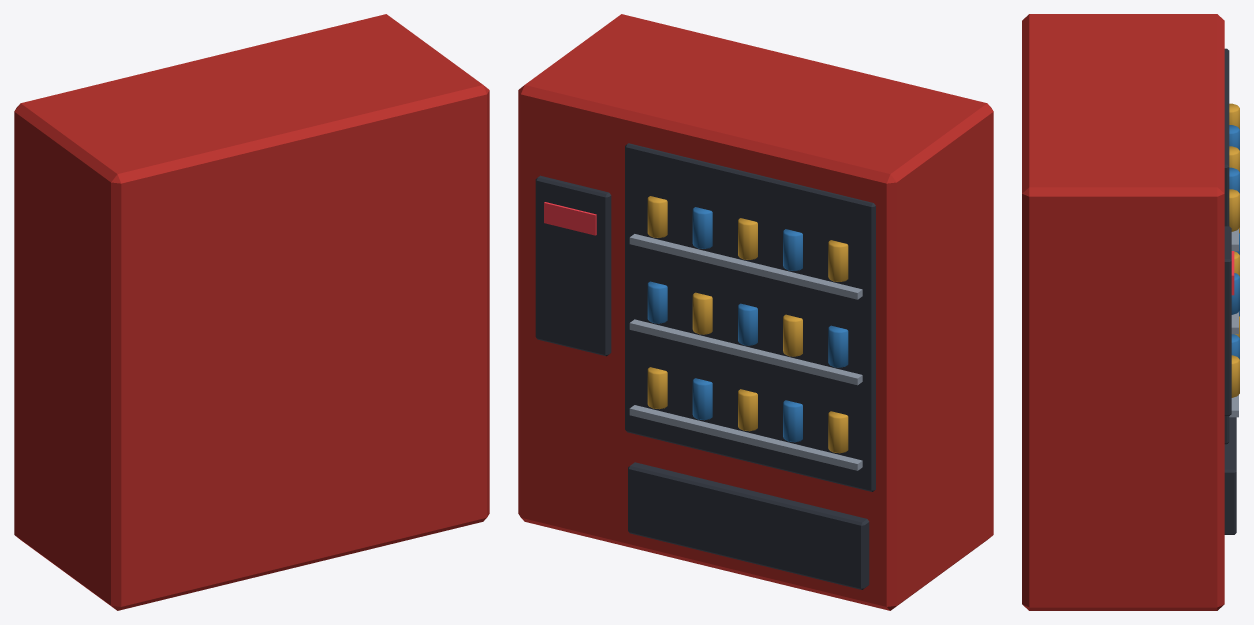
Rendered from prop_vending_machine.obj.
3 views of the same model, side by side, from view 1: azimuth 30°, elevation 25°; view 2: azimuth 150°, elevation 25°; view 3: azimuth 270°, elevation 25° (orthographic). The views are drawn at different scales.
Parts seen in each view (by area): view 1: Cabinet; view 2: Cabinet, GlassRecess, Pickup, Panel, Shelf_0, Shelf_1, Shelf_2, Display, Can_1_4, Can_1_3, Can_0_4, Can_0_0 (+11 smaller); view 3: Cabinet, Panel, Pickup, GlassRecess, Can_2_4, Can_0_4.
Boxes of the visible parts, x1=… form: Cabinet: x1=14, y1=14, x2=489, y2=610; Cabinet: x1=518, y1=14, x2=993, y2=610; GlassRecess: x1=625, y1=143, x2=875, y2=491; Pickup: x1=628, y1=462, x2=869, y2=589; Panel: x1=535, y1=175, x2=611, y2=356; Shelf_0: x1=629, y1=405, x2=862, y2=470; Shelf_1: x1=629, y1=319, x2=862, y2=385; Shelf_2: x1=629, y1=234, x2=862, y2=299; Display: x1=544, y1=202, x2=596, y2=235; Can_1_4: x1=647, y1=281, x2=667, y2=323; Can_1_3: x1=692, y1=292, x2=712, y2=334; Can_0_4: x1=647, y1=367, x2=667, y2=409; Can_0_0: x1=828, y1=411, x2=848, y2=453; Cabinet: x1=1022, y1=14, x2=1224, y2=610; Panel: x1=1224, y1=226, x2=1231, y2=415; Pickup: x1=1224, y1=417, x2=1236, y2=534; GlassRecess: x1=1224, y1=48, x2=1229, y2=444; Can_2_4: x1=1229, y1=189, x2=1239, y2=231; Can_0_4: x1=1231, y1=355, x2=1239, y2=397.
Size of the model in its own units: 1.76 by 1.94 by 0.9035.
